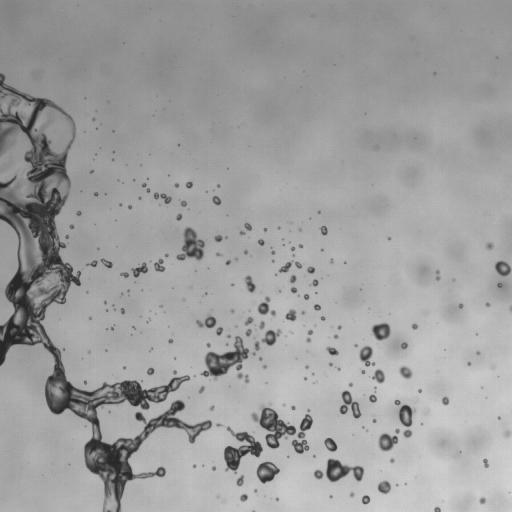droplet: (251, 404, 312, 453), (201, 336, 260, 383), (224, 426, 263, 473), (176, 227, 204, 261), (339, 390, 361, 418), (256, 461, 279, 483), (257, 296, 276, 316), (378, 432, 398, 451), (371, 322, 390, 340), (359, 345, 375, 366), (261, 329, 281, 345), (494, 260, 511, 276), (196, 315, 216, 328), (132, 262, 147, 277), (377, 480, 391, 494), (244, 275, 255, 292), (372, 369, 385, 383), (324, 438, 337, 451), (399, 366, 412, 378), (154, 258, 165, 271), (239, 223, 251, 234), (285, 309, 296, 321), (326, 346, 338, 355), (236, 475, 244, 486), (244, 317, 253, 325), (369, 393, 377, 402), (212, 196, 220, 204), (503, 429, 511, 437), (320, 226, 327, 235), (214, 235, 223, 242), (442, 396, 449, 405), (362, 495, 369, 504), (87, 260, 97, 266), (245, 328, 252, 336), (147, 367, 154, 375), (486, 242, 493, 249), (307, 266, 314, 273), (311, 279, 318, 286), (240, 494, 247, 501), (290, 275, 296, 283), (216, 327, 222, 335), (186, 181, 192, 188), (176, 213, 182, 220), (290, 287, 297, 293), (401, 342, 407, 349), (198, 386, 204, 393), (479, 497, 485, 504), (259, 321, 264, 329), (180, 200, 186, 206), (258, 239, 264, 245), (314, 304, 320, 310), (411, 323, 417, 329), (121, 272, 128, 277), (225, 260, 230, 265), (304, 294, 309, 299), (349, 492, 354, 497), (434, 507, 440, 511), (174, 183, 179, 187), (216, 252, 221, 256), (333, 334, 338, 338), (168, 338, 172, 343), (206, 342, 210, 347), (348, 382, 353, 386), (210, 405, 214, 410), (291, 405, 295, 410), (395, 428, 399, 433), (216, 423, 222, 426), (94, 192, 98, 196), (77, 211, 81, 215), (69, 224, 73, 228), (271, 250, 275, 254), (164, 253, 168, 257), (497, 283, 501, 287), (485, 302, 489, 306), (458, 304, 462, 308), (301, 310, 305, 314), (321, 316, 325, 320), (337, 325, 341, 329), (227, 334, 231, 338), (361, 370, 365, 374), (372, 418, 376, 422), (390, 458, 394, 462), (299, 244, 302, 248), (291, 247, 295, 250), (121, 309, 124, 313), (230, 309, 234, 312), (329, 362, 332, 366), (336, 367, 340, 370), (509, 306, 511, 311), (90, 170, 93, 173), (65, 235, 68, 238), (244, 250, 247, 253), (330, 259, 333, 262), (476, 351, 479, 354), (259, 357, 262, 360), (467, 362, 470, 365), (263, 365, 266, 368), (305, 365, 308, 368), (491, 366, 494, 369), (418, 389, 421, 392), (426, 409, 429, 412), (193, 464, 196, 467), (212, 467, 215, 470), (374, 386, 376, 390), (92, 118, 95, 120), (128, 206, 131, 208), (264, 228, 266, 231), (231, 283, 233, 286), (110, 327, 113, 329), (225, 343, 228, 345), (355, 344, 357, 347), (123, 366, 125, 369), (217, 184, 219, 186), (119, 203, 121, 205), (388, 237, 390, 239), (292, 254, 294, 256), (147, 320, 149, 322), (290, 331, 292, 333), (84, 381, 86, 383), (498, 417, 500, 419), (330, 495, 332, 497), (276, 498, 278, 500)
ligament: (0, 73, 212, 511), (313, 458, 364, 482), (394, 400, 414, 437), (279, 261, 302, 272), (154, 192, 171, 203), (101, 258, 112, 268), (306, 329, 312, 342), (142, 183, 150, 192), (483, 458, 488, 467), (436, 270, 440, 280)
